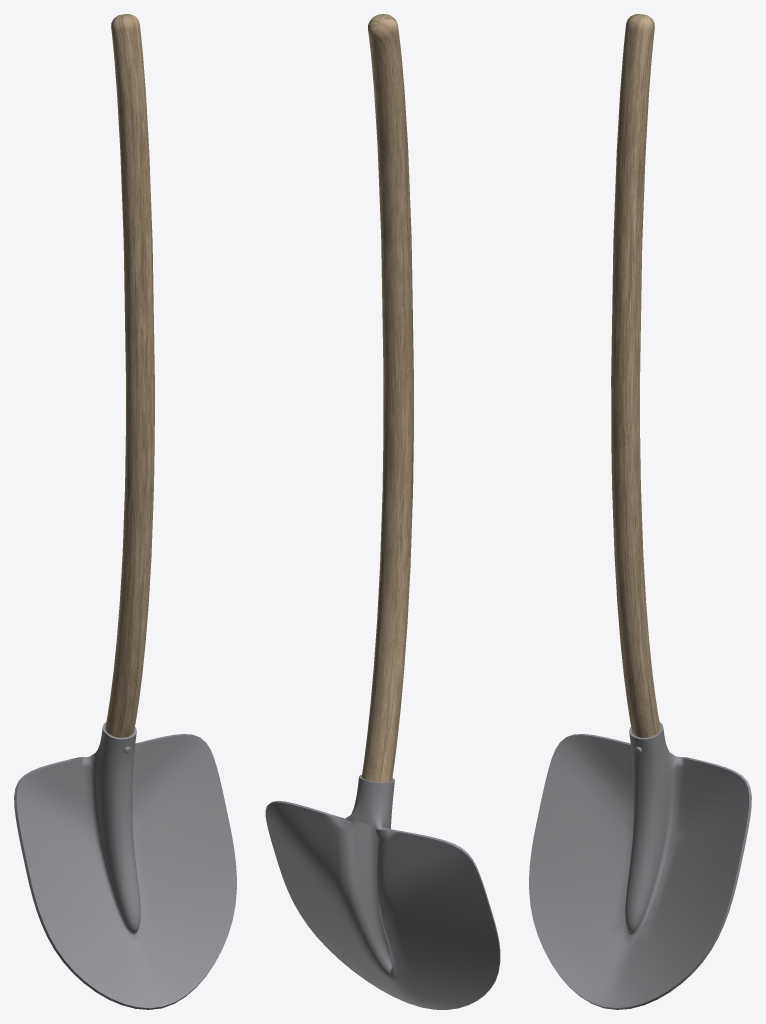
Rendered from pala.fbx.
3 views of the same model, side by side, from view 1: azimuth 30°, elevation 25°; view 2: azimuth 150°, elevation 25°; view 3: azimuth 330°, elevation 25° (orthographic). The views are drawn at different scales.
Visible parts, largest first — view 1: shovel; view 2: shovel; view 3: shovel.
Part boxes in pixels (x1,y1,x2,y2): shovel: [14, 14, 236, 1009]; shovel: [265, 14, 500, 1009]; shovel: [529, 14, 751, 1009].
Bounding box in the file's own units: 32.94 × 150 × 16.31.
Materials: 2 (2 with a texture image).
